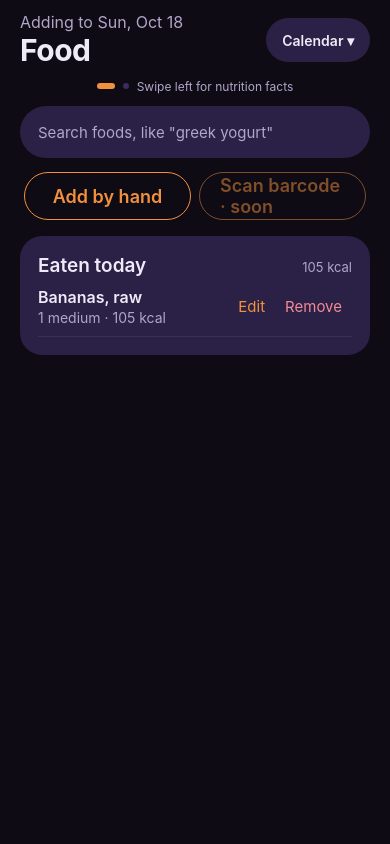
Test: FoodScreen › keeps the editor open and says why when the amount cannot be used
Click the button with aria-label "Edit Bananas, raw". click: (252, 306)
box: [228, 289, 275, 324]
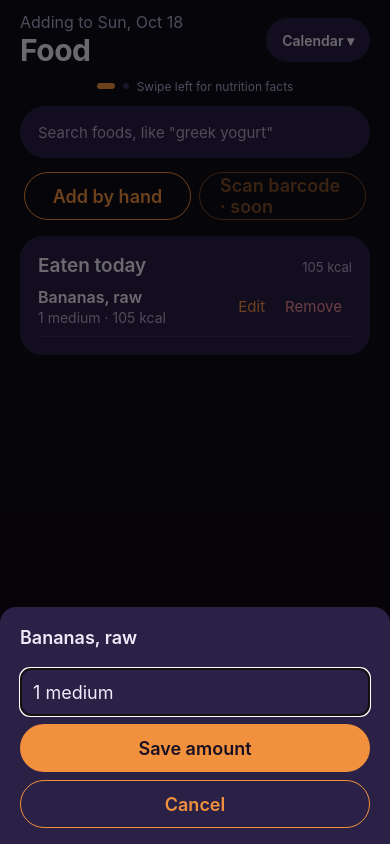
Replace the text in the field named "New amount for Bananas, raw" with "2 slices". click: (195, 692)
box: [20, 668, 370, 716]
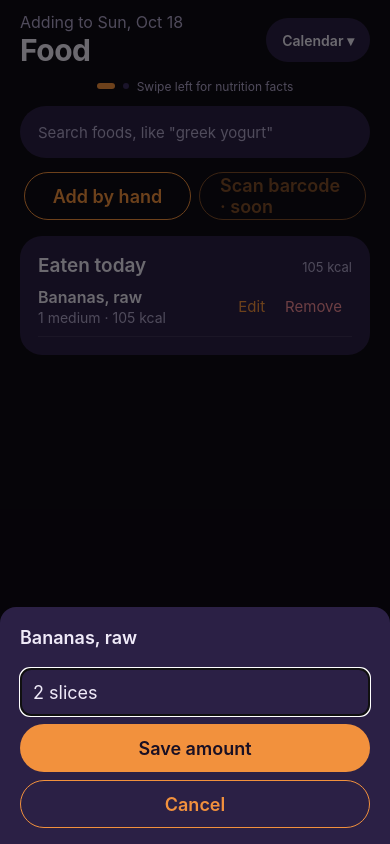
Click the button labelled "Save amount". click: (195, 748)
box: [20, 724, 370, 772]
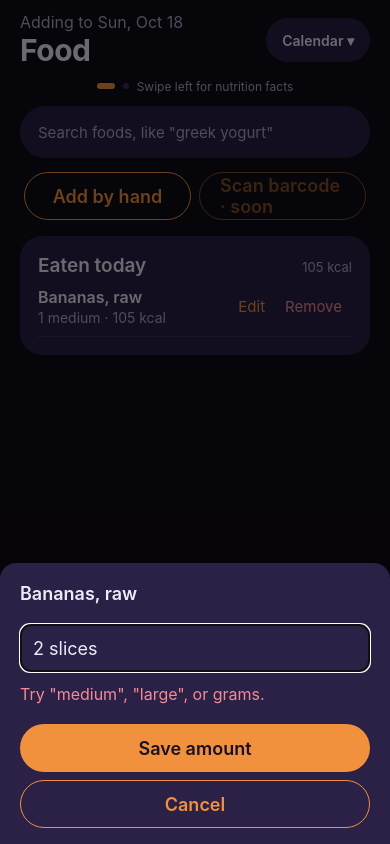
Expected: the text "Try \"medium\", \"large\", or grams." is shown, [20, 684, 265, 704]
Click the button labelled "Cancel". click: (195, 804)
box: [20, 780, 370, 828]
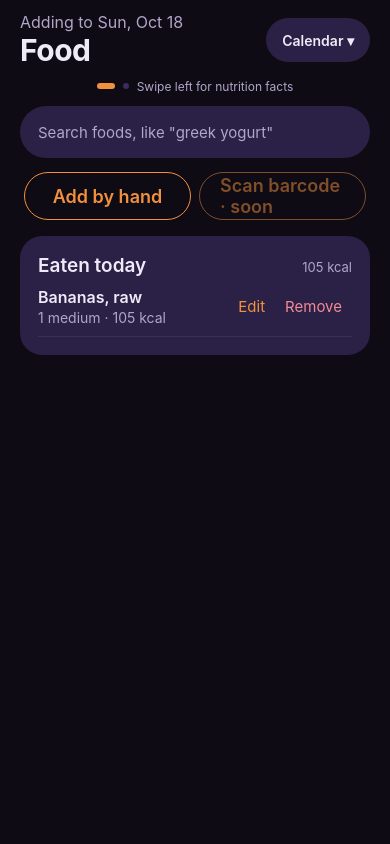
Expected: the button labelled "Save amount" is gone
